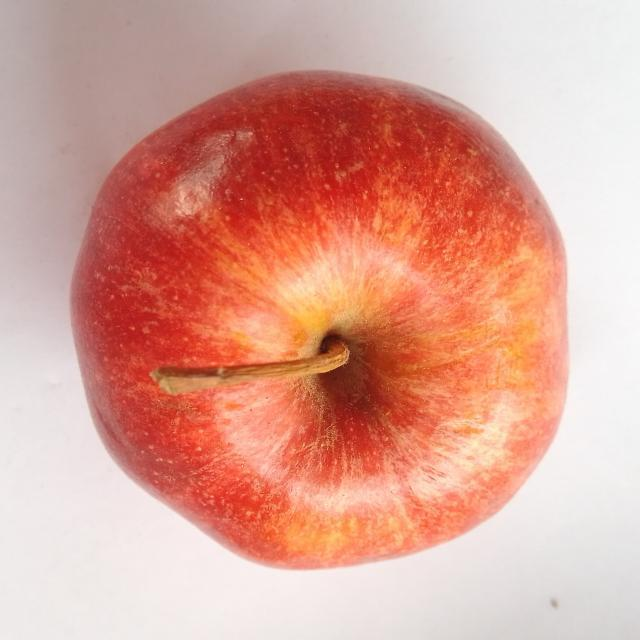Fresh Apple: (70, 70, 572, 565)
